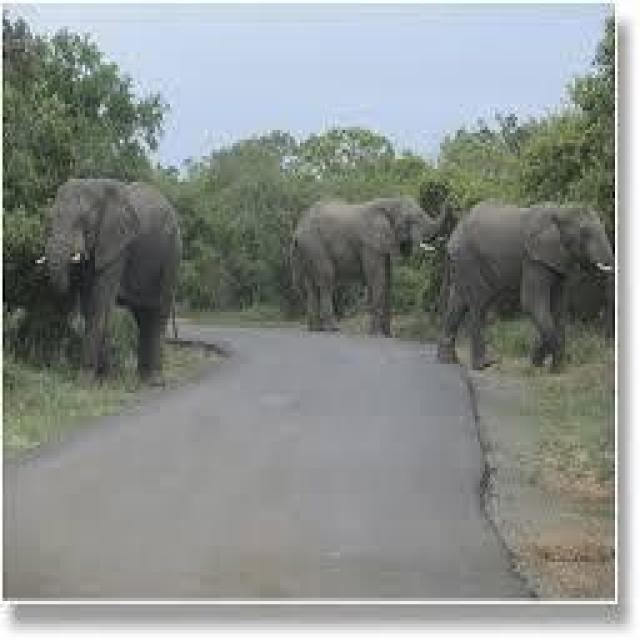Elephant: (28, 143, 200, 396), (438, 182, 614, 382), (280, 182, 449, 338)
